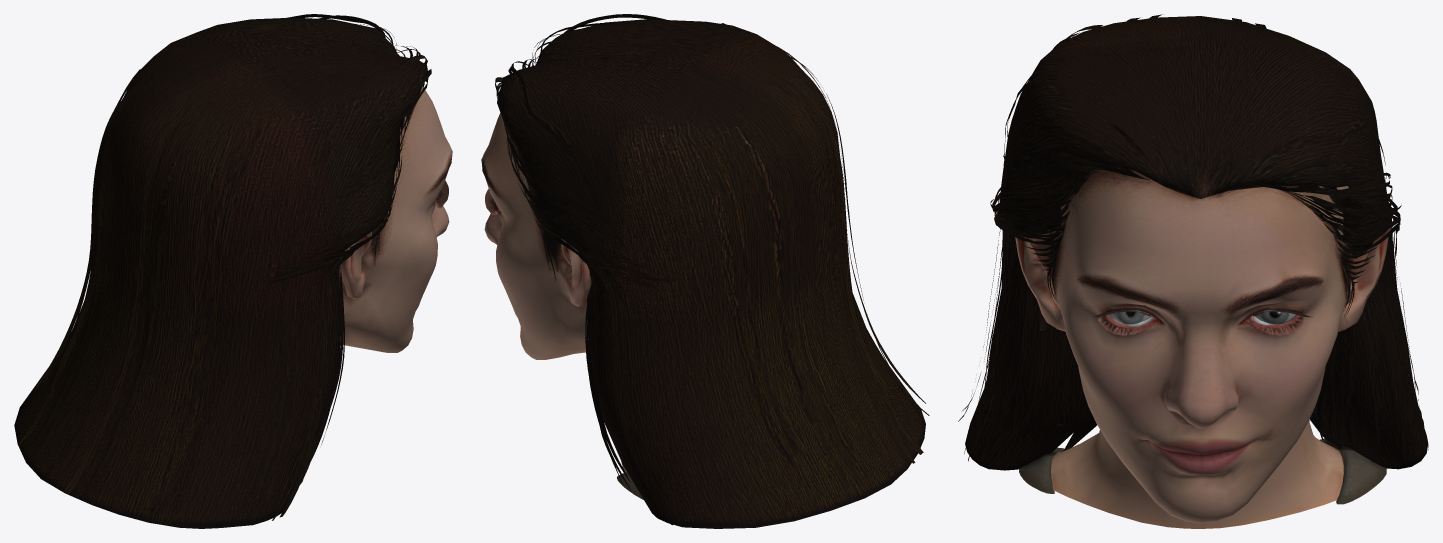
File: source.glb
The picture shows the model from 3 angles, left to right: view 1: azimuth 30°, elevation 25°; view 2: azimuth 150°, elevation 25°; view 3: azimuth 270°, elevation 25°; orthographic projection. The views are drawn at different scales.
Parts seen in each view (by area): view 1: tripo_node_f8943b8f-d5c3-4b5c-8067-d97c60c44853; view 2: tripo_node_f8943b8f-d5c3-4b5c-8067-d97c60c44853; view 3: tripo_node_f8943b8f-d5c3-4b5c-8067-d97c60c44853.
Boxes of the visible parts, bbox=[...] form: tripo_node_f8943b8f-d5c3-4b5c-8067-d97c60c44853: bbox=[14, 14, 452, 528]; tripo_node_f8943b8f-d5c3-4b5c-8067-d97c60c44853: bbox=[481, 14, 929, 528]; tripo_node_f8943b8f-d5c3-4b5c-8067-d97c60c44853: bbox=[958, 14, 1428, 528].
Bounding box in the file's own units: 0.9995 × 0.8862 × 0.8296.
Materials: 1 (1 with a texture image).
